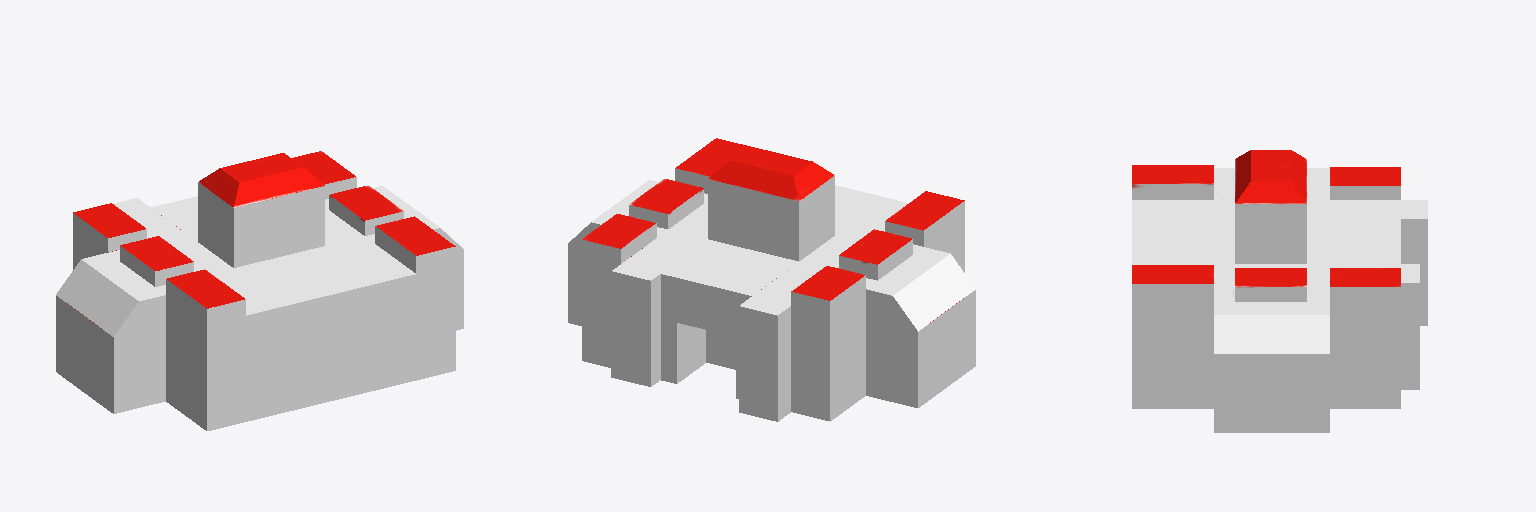
The picture shows the model from 3 angles: view 1: azimuth 30°, elevation 25°; view 2: azimuth 150°, elevation 25°; view 3: azimuth 270°, elevation 25°; orthographic projection.
Visible parts, largest first — view 1: 立方体_立方体.002; view 2: 立方体_立方体.002; view 3: 立方体_立方体.002.
Part boxes in pixels (x1,y1,x2,y2): 立方体_立方体.002: (56,151,463,430); 立方体_立方体.002: (568,138,975,421); 立方体_立方体.002: (1132,150,1427,432).
Bounding box in the file's own units: 30.59 × 15.24 × 22.37.
1 materials, 1 textured.